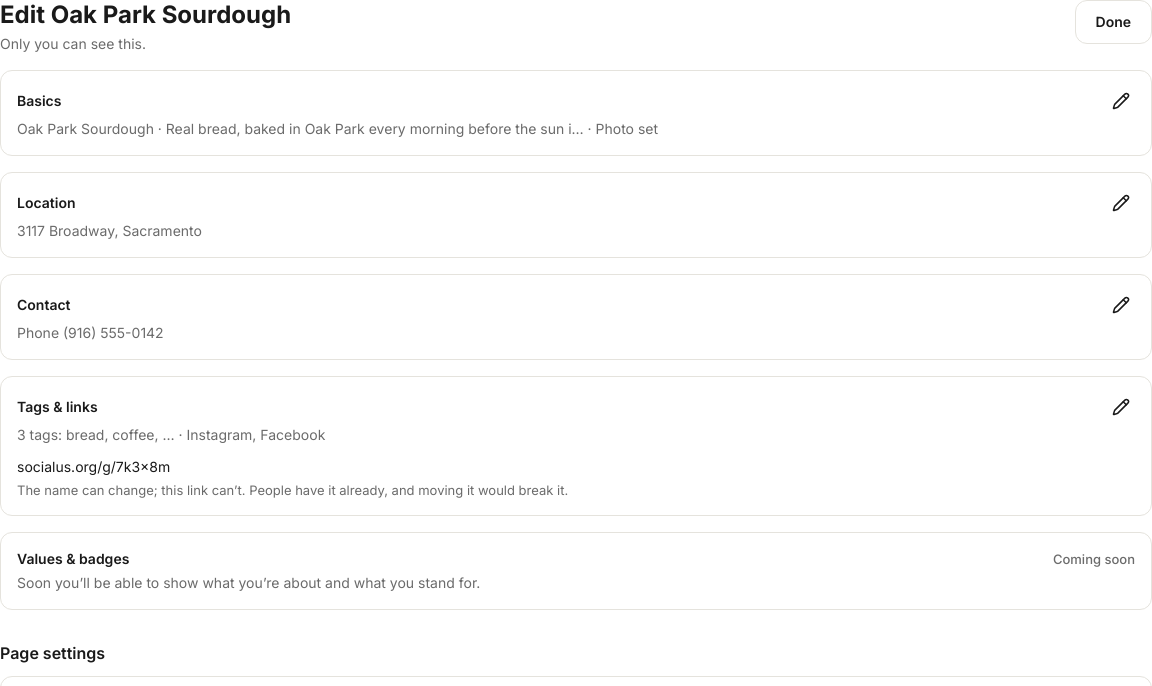
#453 — one pencil per card, in its header › the Location pencil opens the Where sheet
Step 1. Click the button named "Edit Location" → [1121, 203], box [1099,181,1143,225]
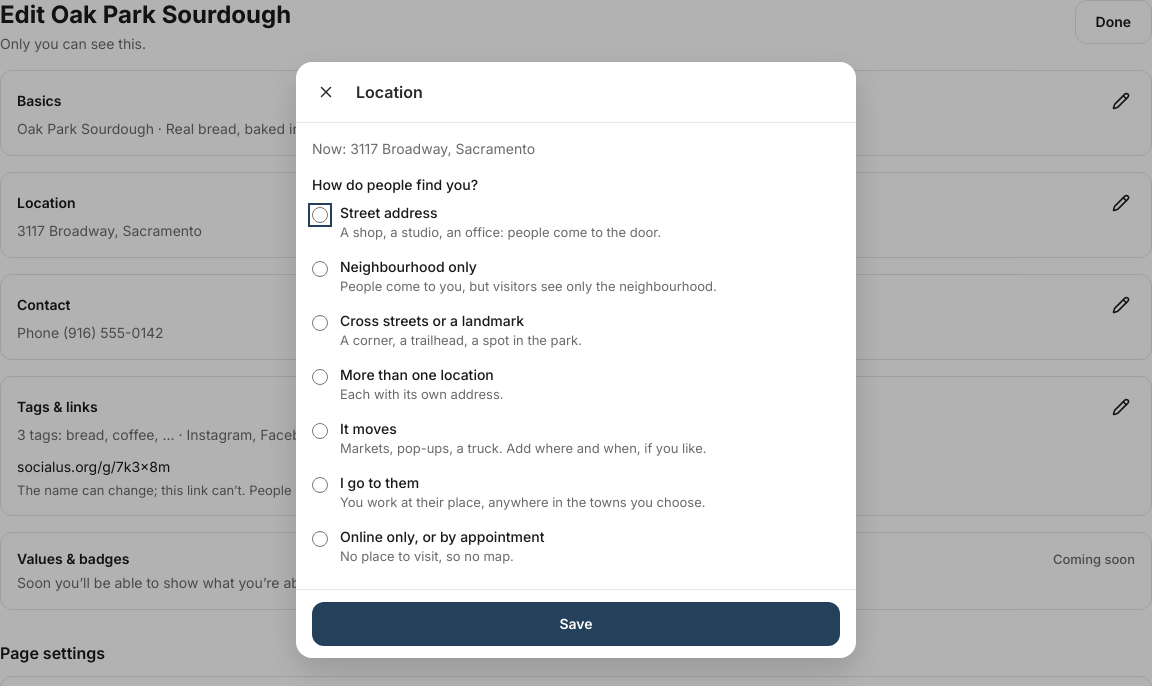
Check: the dialog "Location" is shown, box [296,62,856,658]
